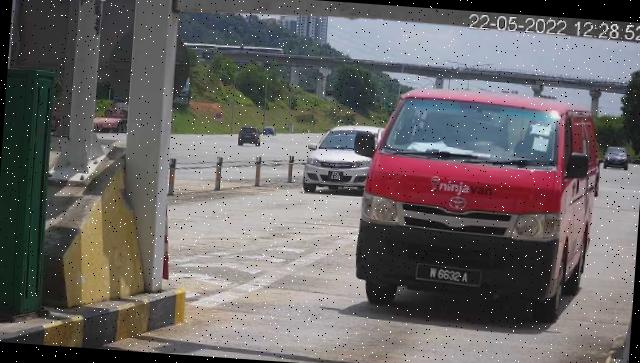License_Plate: (414, 262, 484, 291)
van: (355, 85, 602, 325)
